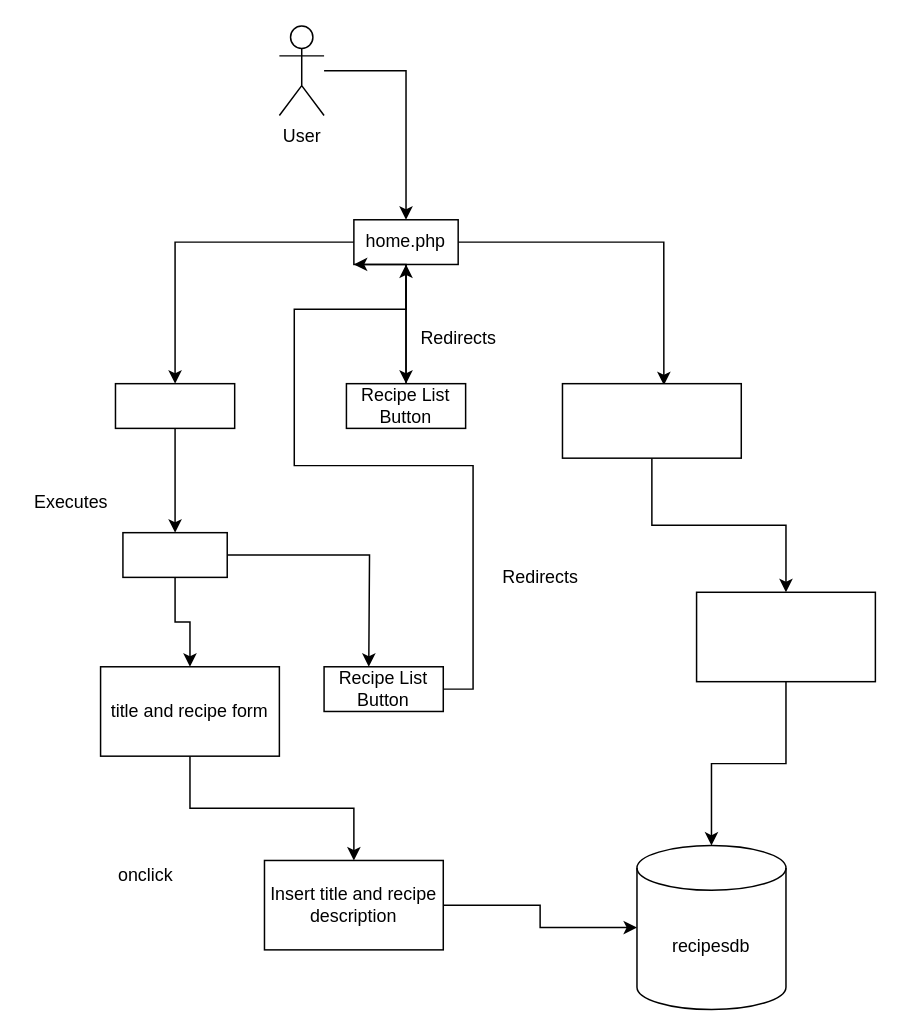
Some shapes in this 901 by 1036 pixel diagram are drawn without their labels. Here are the shapes that lost their labels. From the top down, the box of each, then its label:
(114, 382, 235, 428): New Recipe Button
(561, 382, 741, 458): Delete All Recipes Button
(121, 531, 227, 577): adduser.php
(695, 591, 875, 682): Delete all data in the recipes table
